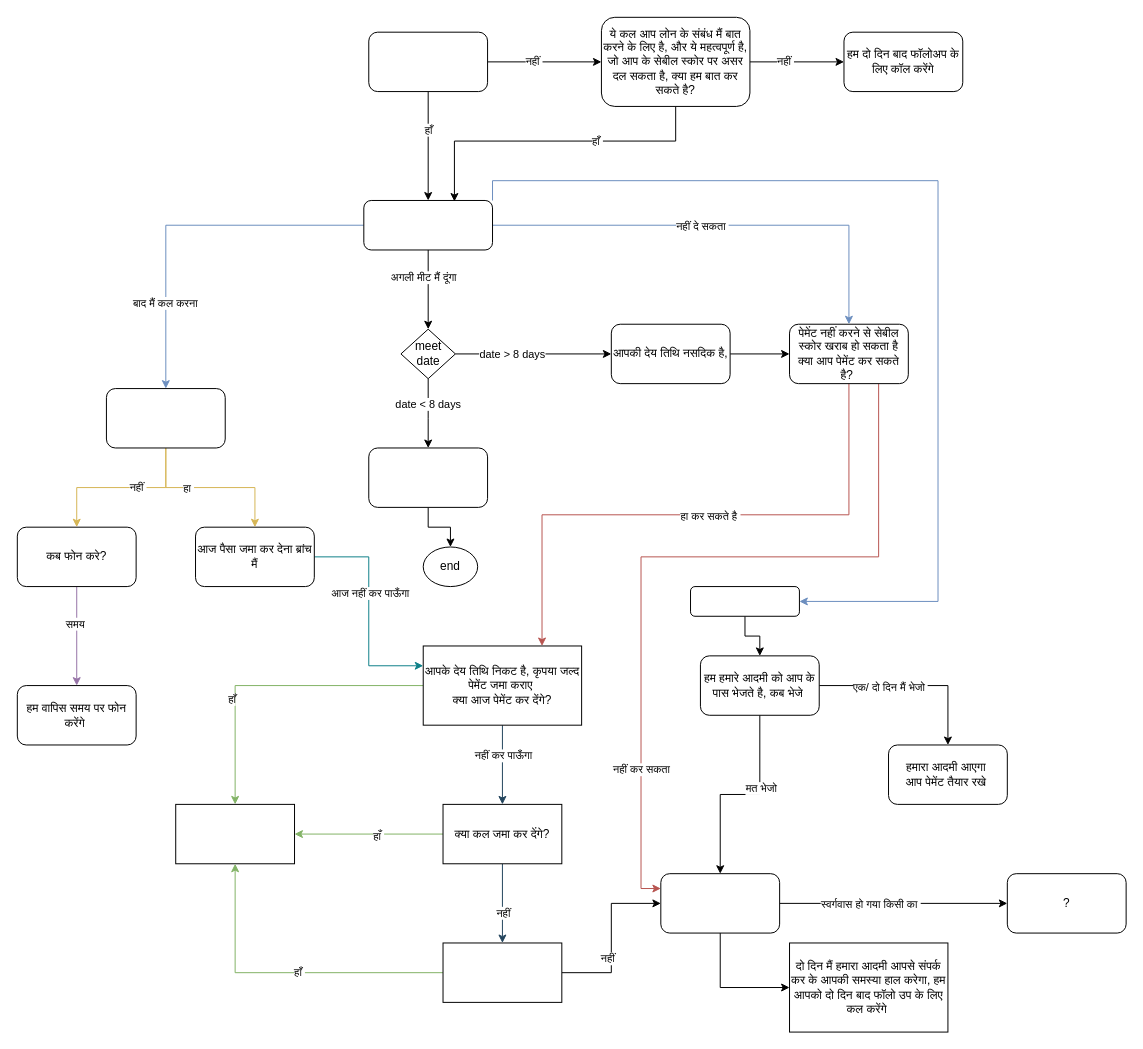
The diagram is 1143 pixels wide and 1049 high, and some of its shapes have lost their labels. Here are the shapes that lost their labels. From the top down, the centre of each, then its label:
point 428,61: नमस्कार, मैं सनाटा फाइनैन्स सी आलिशा बात कर रही हु, क्या हम बात कर सकते है
point 428,224: आपकी ई.एम.आई बाकी है, क्या एप पेमेंट कर सकते hai
point 165,418: पेमेंट नहीं करने से सेबील स्कोर खराब हो सकता है क्या पेमेंट कर सकते है
point 428,477: पुरा पेमेंट देने के लिए तैयार रहे। धन्यवाद
point 744,601: ब्रांच नहीं जा सकता
point 235,833: धन्यवाद
point 720,903: क्या वजह है
point 502,972: क्या दो दिन बाद जमा कर देंगे?
